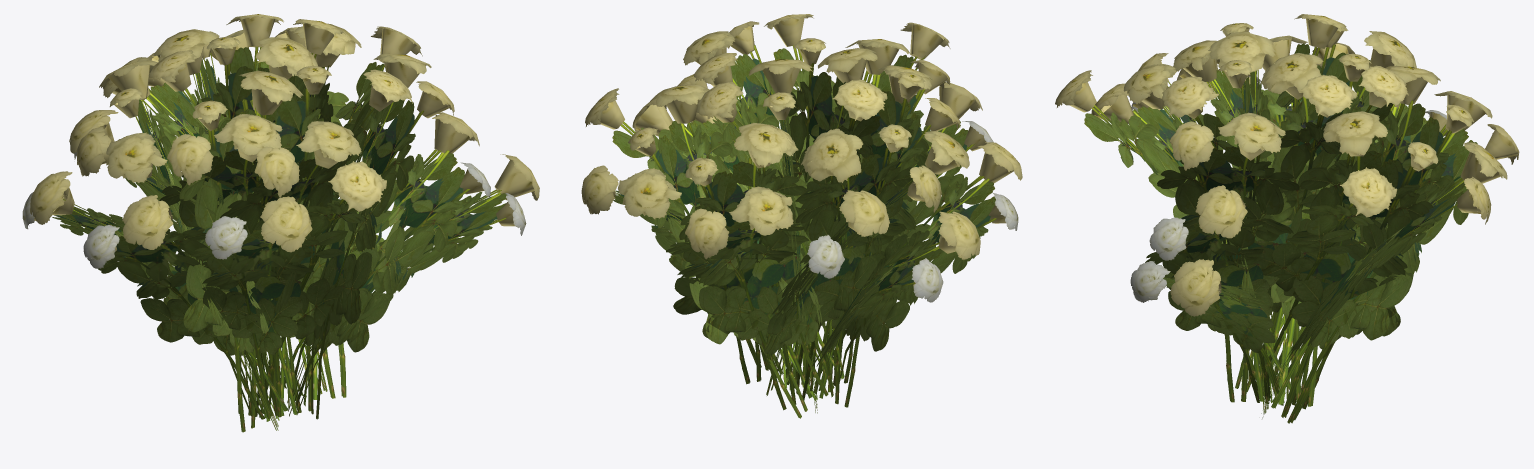
The model's file is NaturePlant04_1.FBX.
The picture shows the model from 3 angles, left to right: view 1: azimuth 30°, elevation 25°; view 2: azimuth 150°, elevation 25°; view 3: azimuth 270°, elevation 25°; orthographic projection. The views are drawn at different scales.
Visible parts, largest first — view 1: NaturePlant04_1; view 2: NaturePlant04_1; view 3: NaturePlant04_1.
Boxes of the visible parts, left/top/right/bottom form: NaturePlant04_1: left=22, top=14, right=539, bottom=432; NaturePlant04_1: left=581, top=14, right=1022, bottom=418; NaturePlant04_1: left=1055, top=14, right=1519, bottom=423.
Size of what is drawn, in the model's own units: 1.23 by 1.06 by 1.18.
